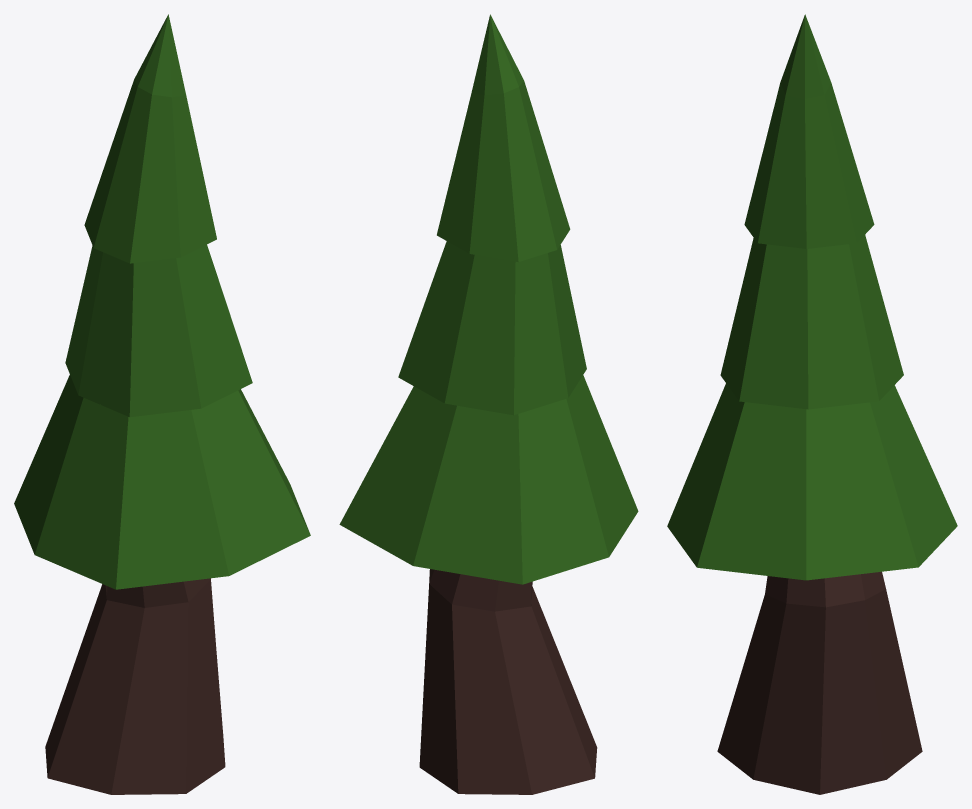
Rendered from Tree1.glb.
3 views of the same model, side by side, from view 1: azimuth 30°, elevation 25°; view 2: azimuth 150°, elevation 25°; view 3: azimuth 270°, elevation 25° (orthographic). The views are drawn at different scales.
Parts seen in each view (by area): view 1: Tree1; view 2: Tree1; view 3: Tree1.
Boxes of the visible parts, x1,y1,x2,y2 form: Tree1: (14, 14, 310, 794); Tree1: (339, 14, 638, 794); Tree1: (667, 14, 957, 794).
Size of what is drawn, in the model's own units: 1.54 by 4.37 by 1.53.
1 material, 1 textured.
